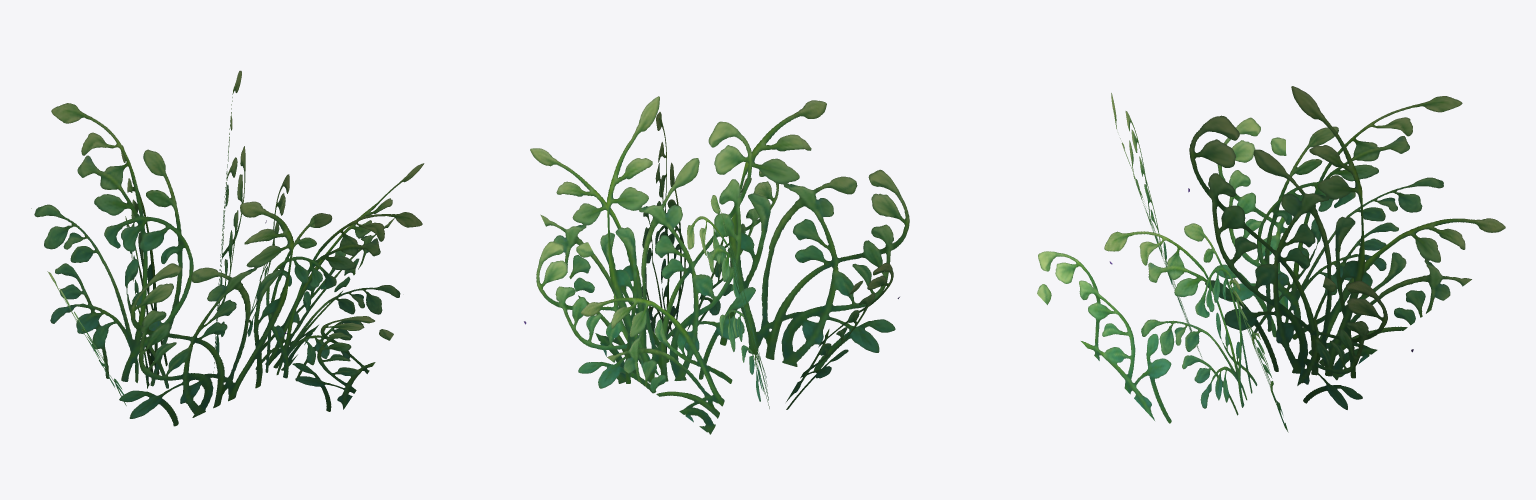
Rendered from zhiwu_05.fbx.
The picture shows the model from 3 angles, left to right: view 1: azimuth 30°, elevation 25°; view 2: azimuth 150°, elevation 25°; view 3: azimuth 270°, elevation 25°; orthographic projection. The views are drawn at different scales.
Parts seen in each view (by area): view 1: zhiwu_05; view 2: zhiwu_05; view 3: zhiwu_05.
Part boxes in pixels (x1,y1,x2,y2): zhiwu_05: (31,70,424,426); zhiwu_05: (524,96,909,434); zhiwu_05: (1037,86,1505,432).
Size of the model in its own units: 412 by 374 by 429.
